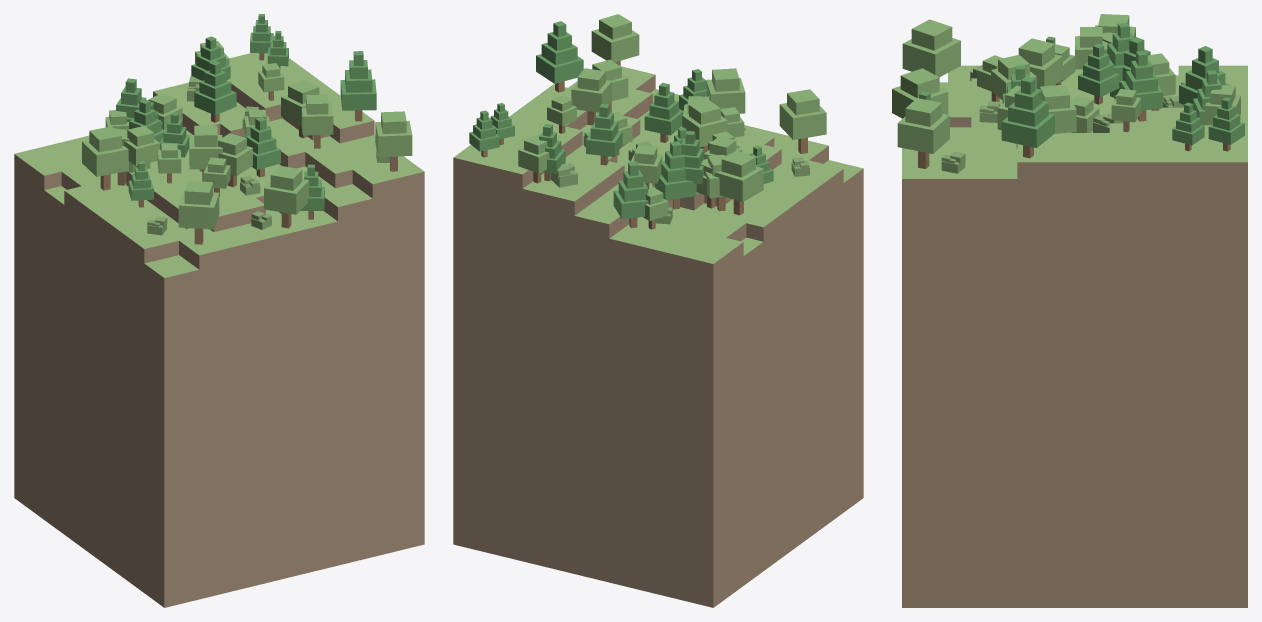
File: block_2_terracing_100.glb
3 renders of one model, left to right at view 1: azimuth 30°, elevation 25°; view 2: azimuth 150°, elevation 25°; view 3: azimuth 270°, elevation 25°, orthographic. The views are drawn at different scales.
Parts seen in each view (by area): view 1: Patch_UpperLeft_b06_TR, TR_Veg_02_035, TR_Veg_02_038, TR_Veg_02_032, TR_Veg_02_020, TR_Veg_02_012, TR_Veg_02_010, TR_Veg_02_031, TR_Veg_02_005, TR_Veg_02_003, TR_Veg_02_016, TR_Veg_02_006 (+13 smaller); view 2: Patch_UpperLeft_b06_TR, TR_Veg_02_032, TR_Veg_02_020, TR_Veg_02_035, TR_Veg_02_012, TR_Veg_02_002, TR_Veg_02_030, TR_Veg_02_023, TR_Veg_02_010, TR_Veg_02_005, TR_Veg_02_003, TR_Veg_02_038 (+11 smaller); view 3: Patch_UpperLeft_b06_TR, TR_Veg_02_020, TR_Veg_02_032, TR_Veg_02_012, TR_Veg_02_038, TR_Veg_02_013, TR_Veg_02_010, TR_Veg_02_003, TR_Veg_02_030, TR_Veg_02_023, TR_Veg_02_025, TR_Veg_02_029 (+11 smaller).
Part boxes in pixels (x1=…): Patch_UpperLeft_b06_TR: x1=14, y1=53, x2=424, y2=607; TR_Veg_02_035: x1=82, y1=126, x2=128, y2=190; TR_Veg_02_038: x1=264, y1=165, x2=309, y2=228; TR_Veg_02_032: x1=178, y1=180, x2=219, y2=244; TR_Veg_02_020: x1=340, y1=51, x2=376, y2=121; TR_Veg_02_012: x1=375, y1=111, x2=412, y2=171; TR_Veg_02_010: x1=194, y1=60, x2=236, y2=122; TR_Veg_02_031: x1=301, y1=94, x2=333, y2=148; TR_Veg_02_005: x1=245, y1=117, x2=280, y2=177; TR_Veg_02_003: x1=189, y1=125, x2=222, y2=181; TR_Veg_02_016: x1=218, y1=133, x2=252, y2=187; TR_Veg_02_006: x1=124, y1=125, x2=159, y2=167; Patch_UpperLeft_b06_TR: x1=453, y1=66, x2=863, y2=607; TR_Veg_02_032: x1=779, y1=89, x2=826, y2=153; TR_Veg_02_020: x1=536, y1=21, x2=583, y2=92; TR_Veg_02_035: x1=714, y1=151, x2=763, y2=215; TR_Veg_02_012: x1=591, y1=14, x2=639, y2=65; TR_Veg_02_002: x1=655, y1=141, x2=696, y2=209; TR_Veg_02_030: x1=613, y1=161, x2=648, y2=228; TR_Veg_02_023: x1=571, y1=68, x2=611, y2=125; TR_Veg_02_010: x1=586, y1=104, x2=622, y2=165; TR_Veg_02_005: x1=644, y1=82, x2=683, y2=142; TR_Veg_02_003: x1=682, y1=100, x2=727, y2=153; TR_Veg_02_038: x1=706, y1=68, x2=745, y2=113; Patch_UpperLeft_b06_TR: x1=902, y1=65, x2=1247, y2=607; TR_Veg_02_020: x1=1001, y1=76, x2=1054, y2=158; TR_Veg_02_032: x1=902, y1=19, x2=960, y2=77; TR_Veg_02_012: x1=897, y1=98, x2=949, y2=168; TR_Veg_02_038: x1=892, y1=68, x2=948, y2=118; TR_Veg_02_013: x1=1078, y1=43, x2=1119, y2=104; TR_Veg_02_010: x1=1121, y1=50, x2=1162, y2=121; TR_Veg_02_003: x1=1018, y1=38, x2=1062, y2=89; TR_Veg_02_030: x1=1179, y1=46, x2=1231, y2=104; TR_Veg_02_023: x1=1040, y1=84, x2=1076, y2=133; TR_Veg_02_025: x1=1208, y1=97, x2=1244, y2=151; TR_Veg_02_029: x1=1172, y1=102, x2=1204, y2=151.
Size of the model in its own units: 9.83 by 15.83 by 9.77.
